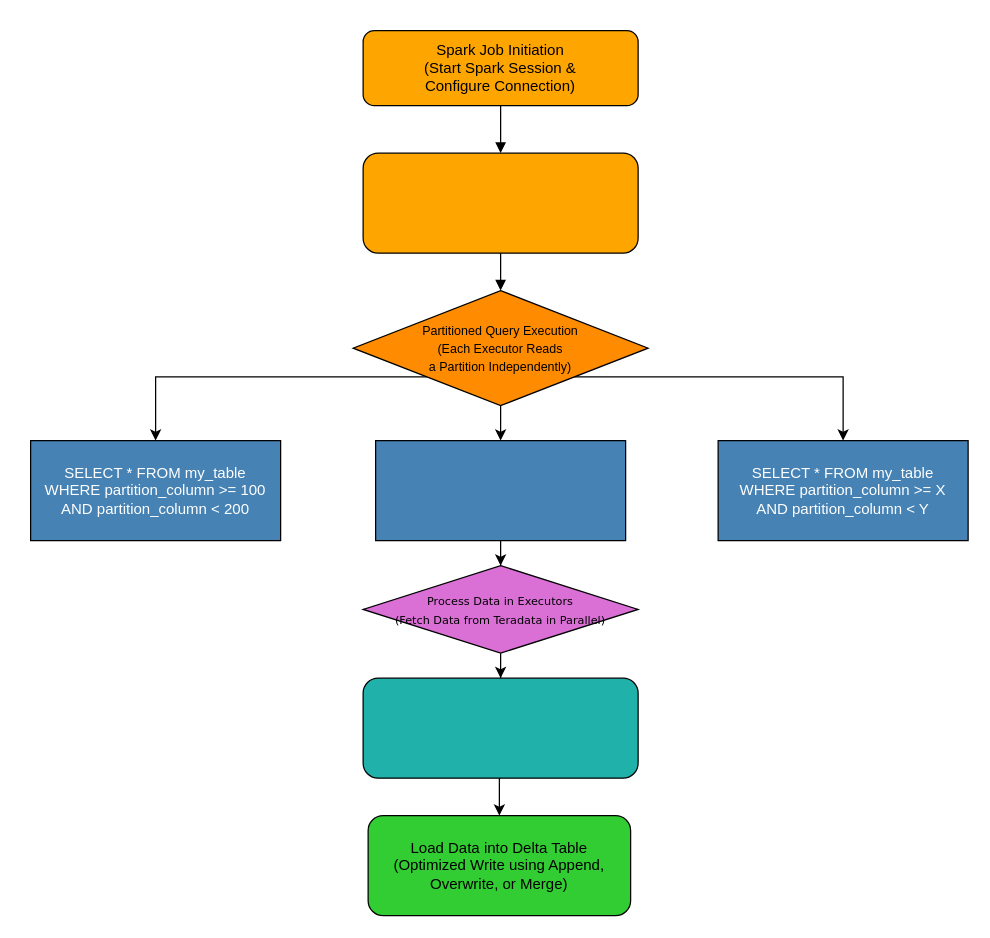
Image size: 990x938. Some labels were removed from this diagram. The centre of each missing label's shape, as x and y in pixels:
"Data Transformation (Filtering, Aggregation, Schema Mapping, Casting)" goes at point 500,727.
"Partitioning Logic (Define partitionColumn, Lower & Upper Bound, NumPartitions)" goes at point 500,202.
"SELECT * FROM my_table WHERE partition_column >= 200 AND partition_column < 300" goes at point 500,490.
